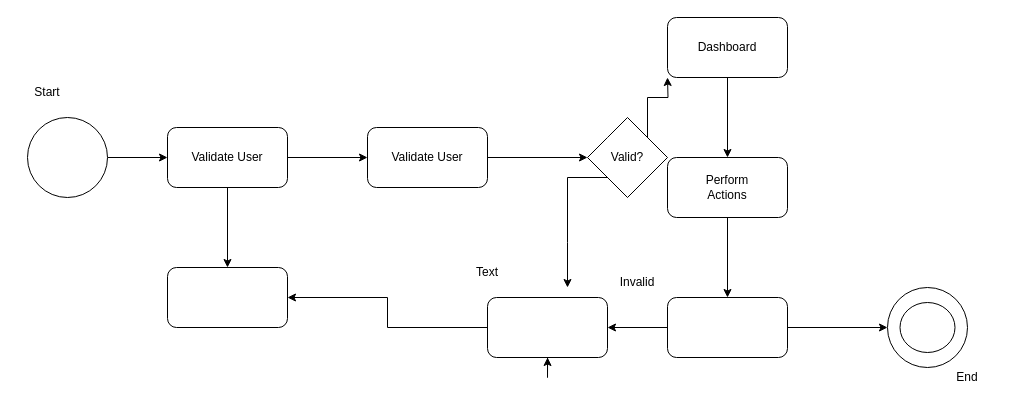
The diagram is 1014 pixels wide and 415 high, and some of its shapes have lost their labels. The shapes that lost their labels are listed below. From the top down, each one's centre as x and y in pixels, then its label:
At [227,297]: "Retry".
At [547,327]: "Error Message".
At [727,327]: "Logout".
